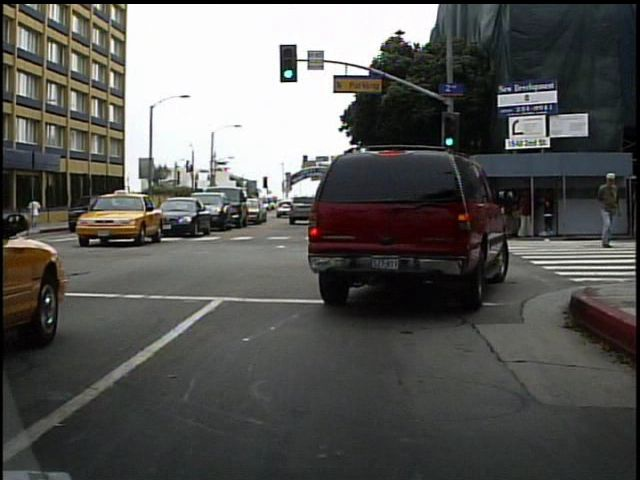person: (593, 167, 624, 254), (27, 193, 43, 226)
